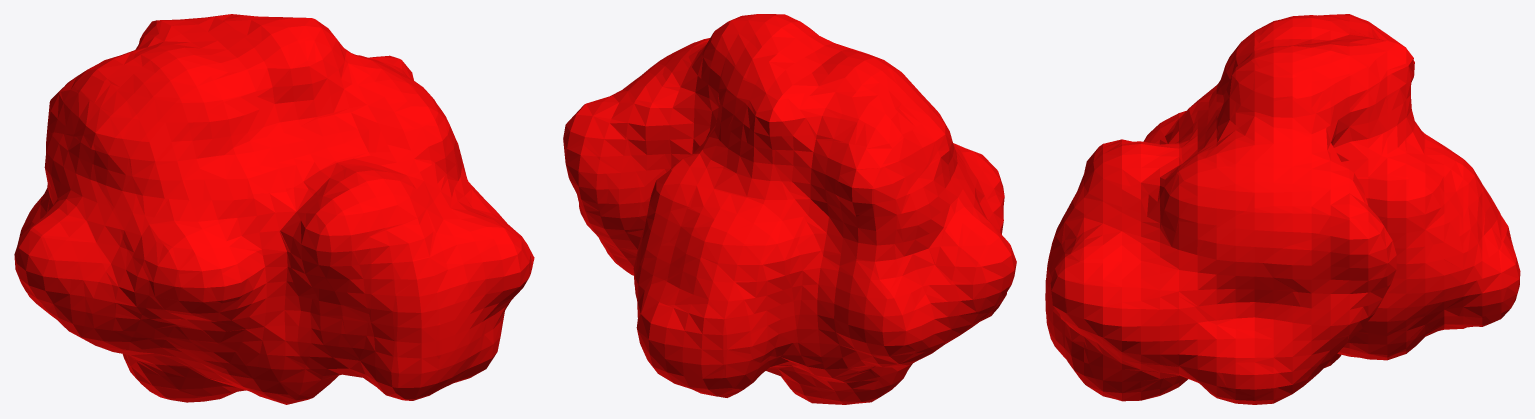
File: dsdA_coarse.dae
The picture shows the model from 3 angles, left to right: view 1: azimuth 30°, elevation 25°; view 2: azimuth 150°, elevation 25°; view 3: azimuth 270°, elevation 25°; orthographic projection. The views are drawn at different scales.
Parts seen in each view (by area): view 1: dsdA; view 2: dsdA; view 3: dsdA.
Part boxes in pixels (<box>): dsdA: <box>14,14,534,404</box>; dsdA: <box>563,14,1016,404</box>; dsdA: <box>1045,14,1520,404</box>.
Bounding box in the file's own units: 66.18 × 53.84 × 66.43.
